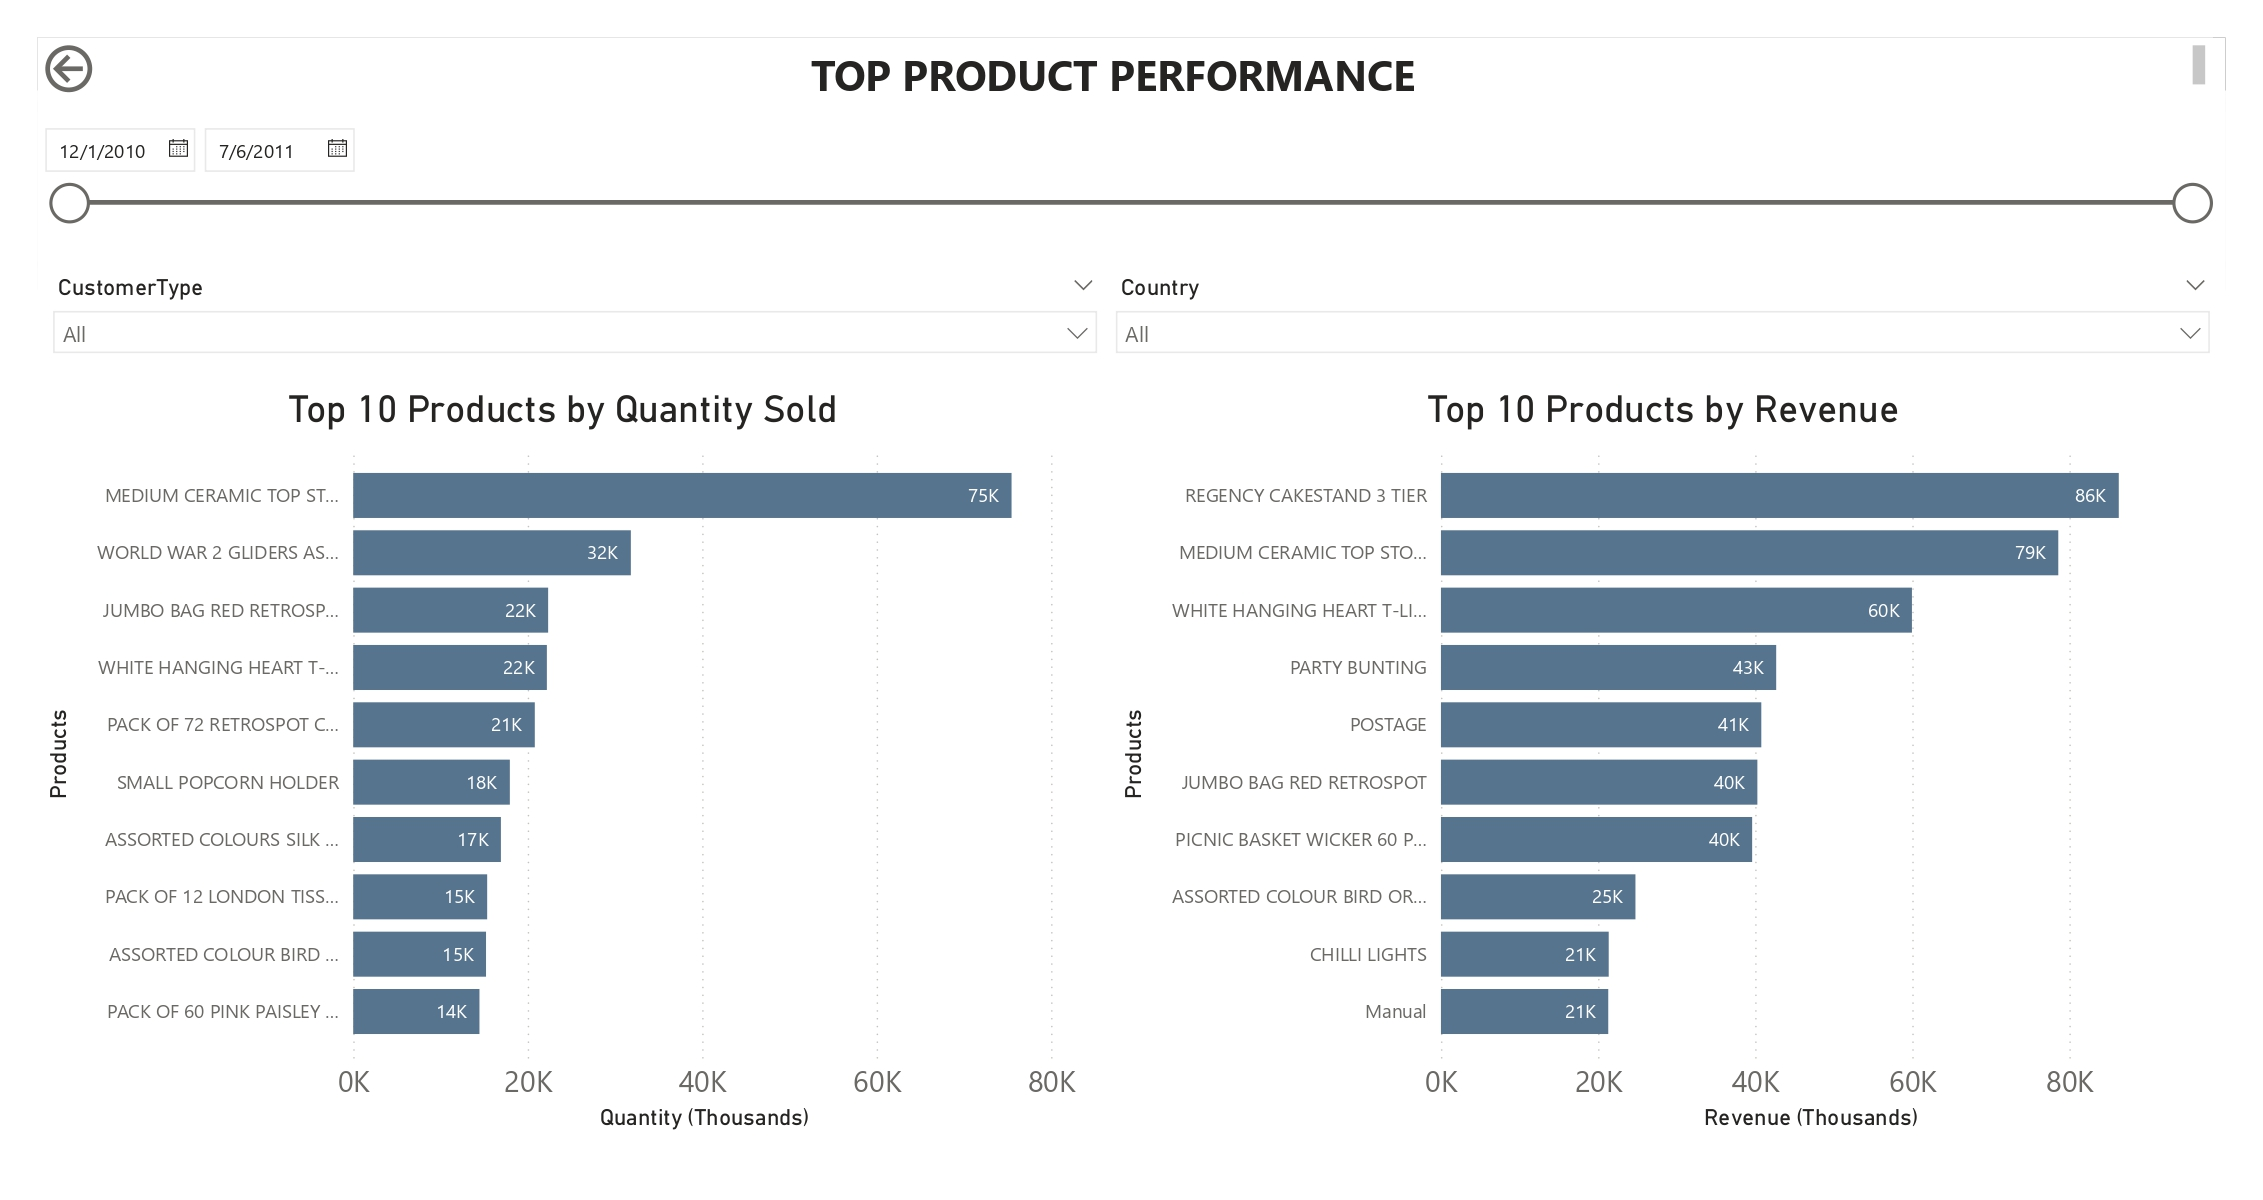

This screenshot's page, from the dashboard's own definition file:
{"tool":"powerbi","page":{"name":"Product Performance","canvas":[1400,720],"ordinal":3},"visuals":[{"type":"textbox","box":[-8,0,1400,40],"z":0},{"type":"slicer","fields":{"Values":["edata_customer_type.InvoiceDate"]},"box":[-8,48,1408,96],"z":1000},{"type":"slicer","fields":{"Values":["edata_customer_type.CustomerType"]},"box":[0,146.9,688,80],"z":2000},{"type":"slicer","fields":{"Values":["edata_customer_type.Country"]},"box":[680,146.9,720,80],"z":3000},{"type":"barChart","title":"Top 10 Products by Revenue","fields":{"Y":["edata_customer_type.Total Revenue"],"Category":["edata_customer_type.Description"]},"box":[688,224,704,480],"z":4000},{"type":"barChart","title":"Top 10 Products by Quantity Sold","fields":{"Y":["Sum(edata_customer_type.Quantity)"],"Category":["edata_customer_type.Description"]},"box":[0,224,672,480],"z":5000},{"type":"actionButton","box":[0,0,100,40],"z":6000}]}

Visuals, with their boxes on the page's 1400x720 design canvas (x1, y1, x2, y2). These are canvas units, not pixel positions in the 2263x1200 screenshot, which may show the page scaled, cropped or inside an application window:
textbox: Rect(-8, 0, 1392, 40)
slicer - edata_customer_type.InvoiceDate: Rect(-8, 48, 1400, 144)
slicer - edata_customer_type.CustomerType: Rect(0, 147, 688, 227)
slicer - edata_customer_type.Country: Rect(680, 147, 1400, 227)
"Top 10 Products by Revenue" barChart: Rect(688, 224, 1392, 704)
"Top 10 Products by Quantity Sold" barChart: Rect(0, 224, 672, 704)
actionButton: Rect(0, 0, 100, 40)
